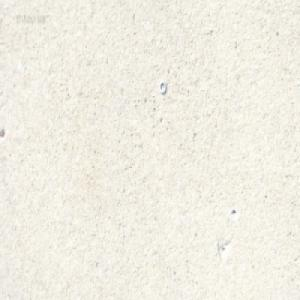Washer: (158, 80, 166, 95)
